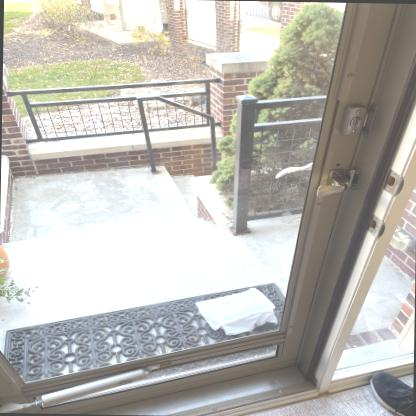plastic_bag: (194, 287, 278, 336)
